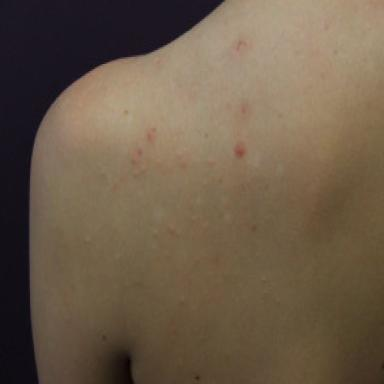acne: (235, 142, 246, 157), (147, 132, 156, 144), (236, 41, 247, 50), (241, 105, 247, 113), (137, 148, 143, 155)
